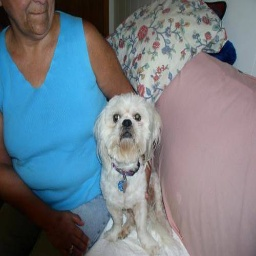dog: (88, 90, 167, 256)
